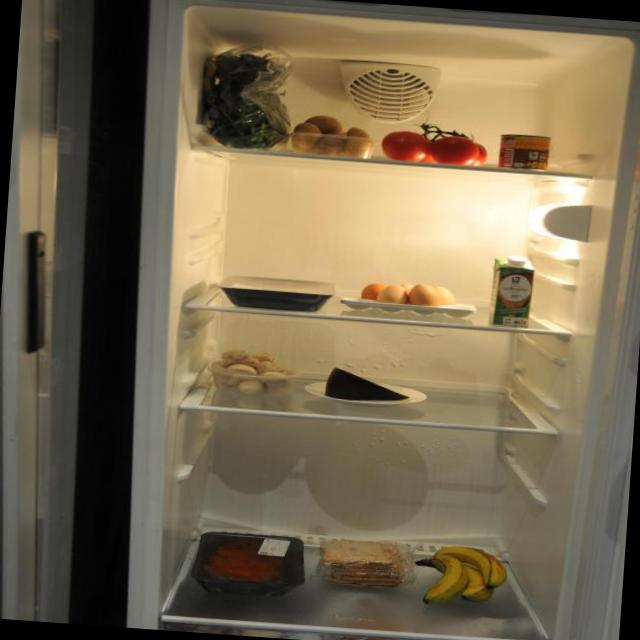Carne vacuno: (200, 534, 292, 588)
Champiñones: (207, 348, 290, 401)
Huevos: (359, 276, 465, 314)
Patata: (287, 110, 372, 162)
Plátano: (421, 541, 513, 611)
Queso: (320, 365, 410, 404)
Tomate: (382, 124, 489, 170)
